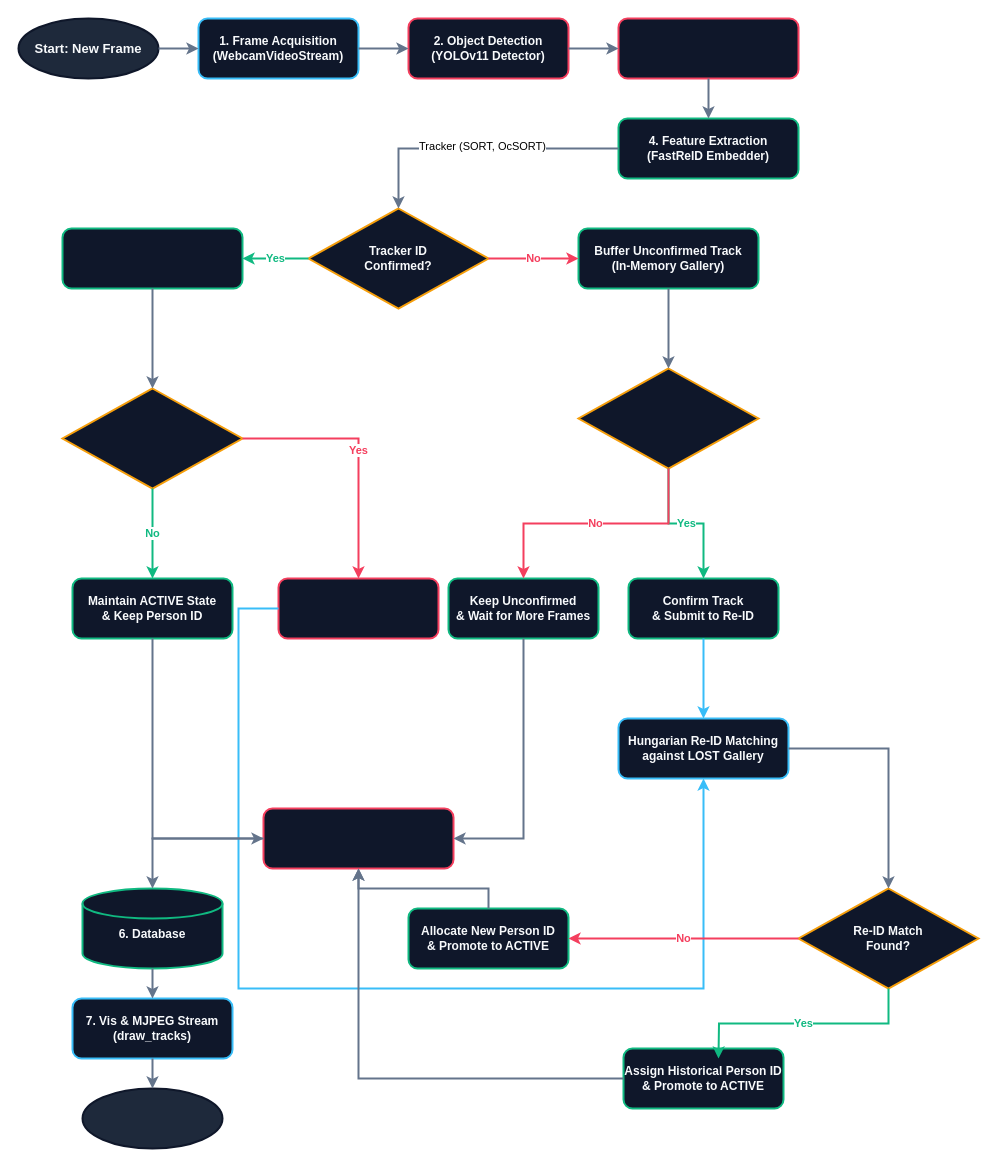
Some shapes in this 996 by 1166 pixel diagram are drawn without their labels. The shapes that lost their labels are listed below. From the top down, each one's box as (x1, y1, x2, y2) in pixels, then its label:
(617, 17, 799, 79): 3. 2D Temporal Association (SORT Tracker)
(61, 227, 243, 289): Update Confirmed Track (Feature Smoothing)
(61, 387, 243, 489): Appearance Drastically Changed?
(577, 367, 759, 469): Hits >= min_hits & Valid Appearance?
(277, 577, 439, 639): Mark Old Person ID LOST & Split New Track
(262, 807, 454, 869): 5. LOST & DEAD Cleanup (Reap stale lost tracks)
(81, 1087, 223, 1149): End of Frame
